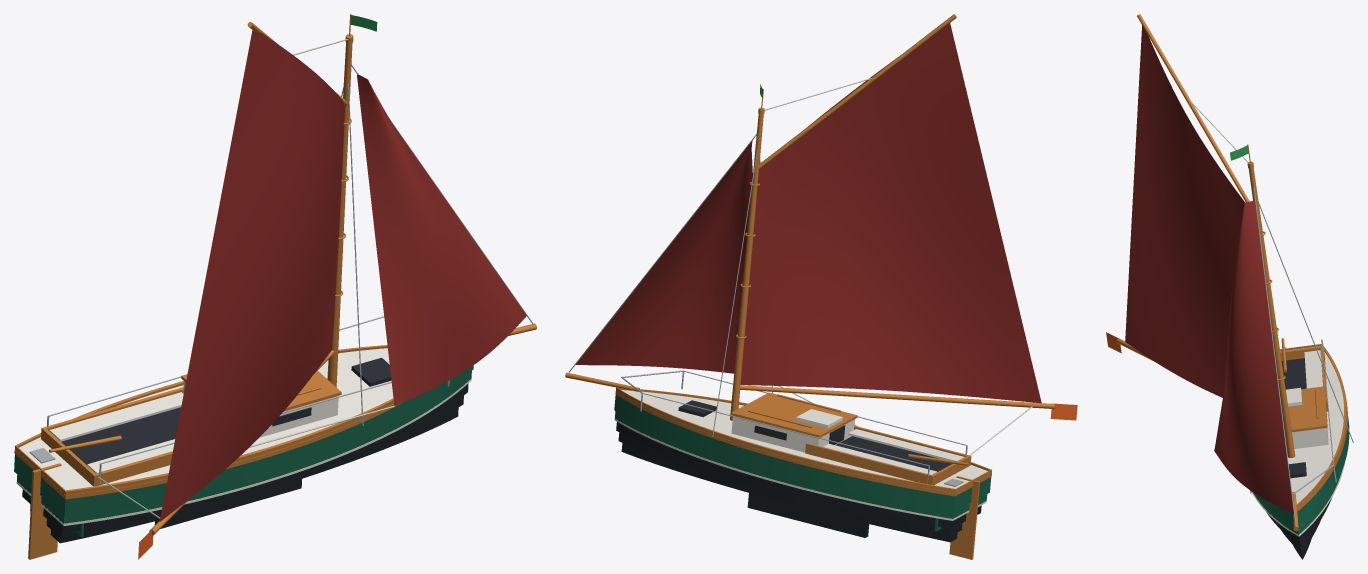
Rendered from gaff-cutter.glb.
The picture shows the model from 3 angles, left to right: view 1: azimuth 30°, elevation 25°; view 2: azimuth 150°, elevation 25°; view 3: azimuth 270°, elevation 25°; orthographic projection. The views are drawn at different scales.
Parts seen in each view (by area): view 1: mainsail, jib, hull, deck, cockpit_well, toerail, mast_spar, bench_0, rudder_blade, rubrail, boot_top, keel (+8 smaller); view 2: mainsail, jib, hull, deck, cabin_trim, toerail, mast_spar, keel, boom, rubrail, cabin_house, coaming_0 (+5 smaller); view 3: mainsail, jib, deck, hull, mast_spar, cabin_trim, gaff, toerail, cockpit_well, cabin_house, bench_0, forestay (+1 smaller).
Part boxes in pixels (box(x1,y1,x2,y2)): mainsail: box(159, 29, 344, 521); jib: box(357, 74, 526, 405); hull: box(14, 365, 473, 543); deck: box(19, 348, 393, 490); cockpit_well: box(61, 407, 181, 465); toerail: box(15, 345, 393, 495); mast_spar: box(327, 43, 352, 387); bench_0: box(49, 392, 183, 441); rudder_blade: box(28, 463, 61, 559); rubrail: box(14, 403, 401, 499); boot_top: box(16, 378, 471, 525); keel: box(154, 479, 301, 528); mainsail: box(740, 23, 1041, 403); jib: box(576, 141, 752, 373); hull: box(614, 394, 991, 542); deck: box(621, 390, 987, 488); cabin_trim: box(731, 392, 857, 437); toerail: box(616, 387, 991, 492); mast_spar: box(730, 114, 763, 420); keel: box(747, 493, 869, 537); boom: box(739, 385, 1054, 408); rubrail: box(615, 391, 991, 496); cabin_house: box(731, 417, 855, 452); coaming_0: box(805, 443, 933, 484); mainsail: box(1125, 25, 1245, 397); jib: box(1214, 200, 1293, 514); deck: box(1280, 346, 1343, 504); hull: box(1253, 416, 1349, 559); mast_spar: box(1248, 168, 1295, 457); cabin_trim: box(1288, 386, 1327, 432); gaff: box(1137, 14, 1249, 202); toerail: box(1280, 344, 1347, 507); cockpit_well: box(1281, 358, 1306, 389); cabin_house: box(1292, 428, 1328, 448); bench_0: box(1304, 350, 1322, 388); forestay: box(1253, 188, 1296, 524).
Size of the model in its own units: 9.28 by 9.97 by 4.93.
